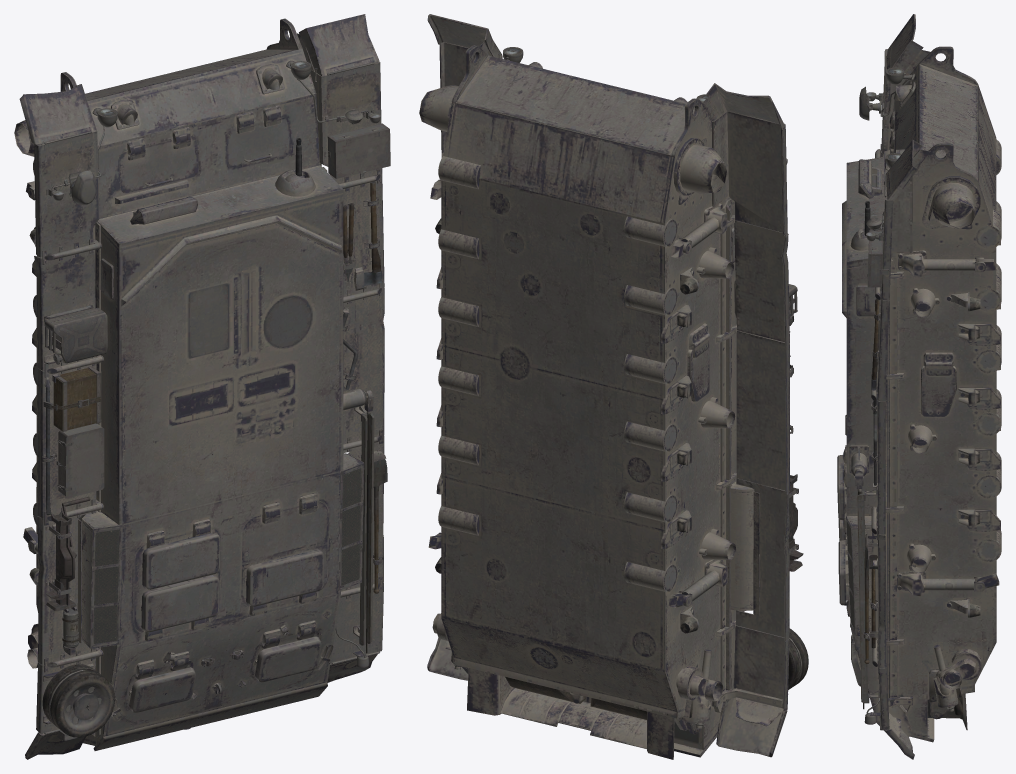
Rendered from Hull.glb.
The picture shows the model from 3 angles, left to right: view 1: azimuth 30°, elevation 25°; view 2: azimuth 150°, elevation 25°; view 3: azimuth 270°, elevation 25°; orthographic projection. The views are drawn at different scales.
Parts seen in each view (by area): view 1: set_0_group_0; view 2: set_0_group_0; view 3: set_0_group_0.
Part boxes in pixels (<box>): set_0_group_0: <box>14,14,390,759</box>; set_0_group_0: <box>419,14,808,759</box>; set_0_group_0: <box>837,14,1001,759</box>.
Bounding box in the file's own units: 2.98 × 5.48 × 1.35.
Materials: 1 (1 with a texture image).
